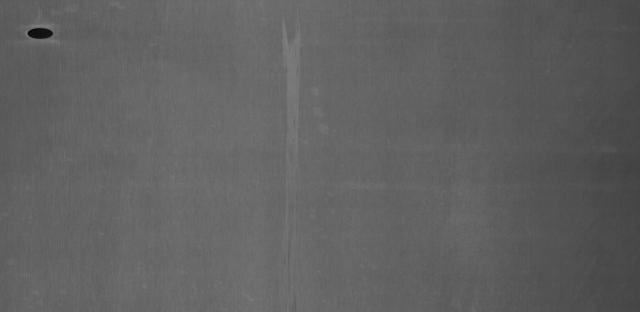punching_hole: (26, 24, 56, 40)
water_spot: (273, 16, 311, 268)
